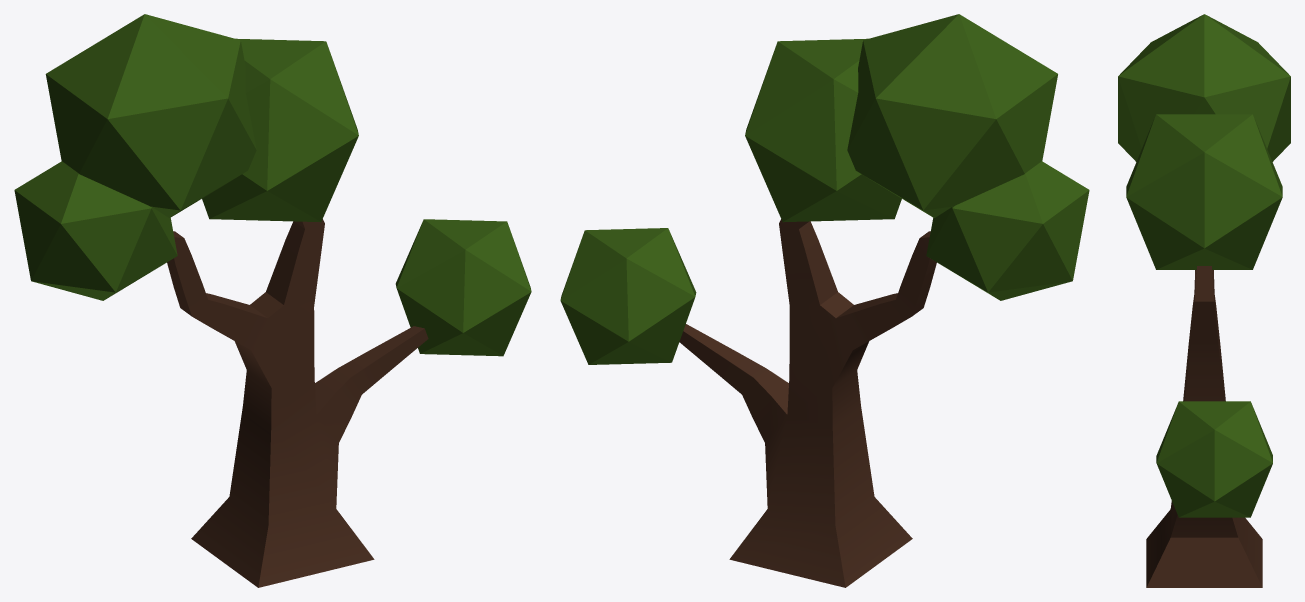
The model's file is agac1.fbx.
The picture shows the model from 3 angles, left to right: view 1: azimuth 30°, elevation 25°; view 2: azimuth 150°, elevation 25°; view 3: azimuth 270°, elevation 25°; orthographic projection. The views are drawn at different scales.
Visible parts, largest first — view 1: Cube.002; view 2: Cube.002; view 3: Cube.002.
Boxes of the visible parts, left/top/right/bottom form: Cube.002: left=14, top=14, right=531, bottom=587; Cube.002: left=560, top=14, right=1089, bottom=587; Cube.002: left=1118, top=14, right=1290, bottom=587.
Bounding box in the file's own units: 0.0401 × 0.0431 × 0.0137.
